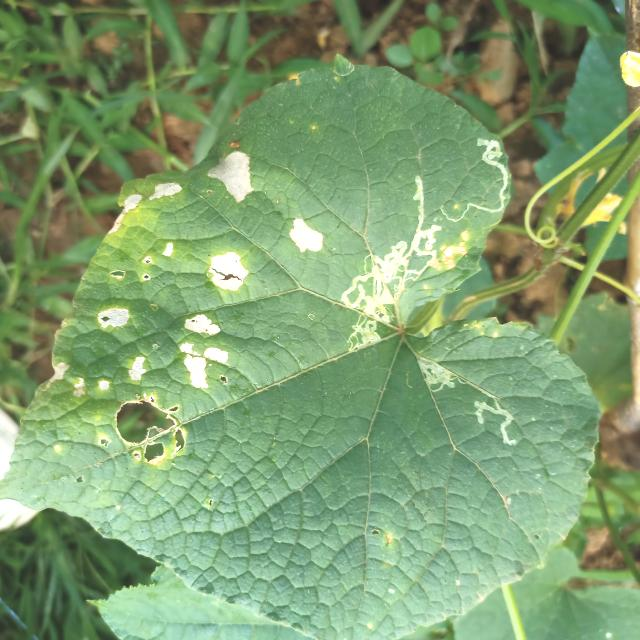disease_cucumber: (28, 112, 331, 465)
